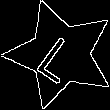L_NE: (32, 25, 89, 84)
